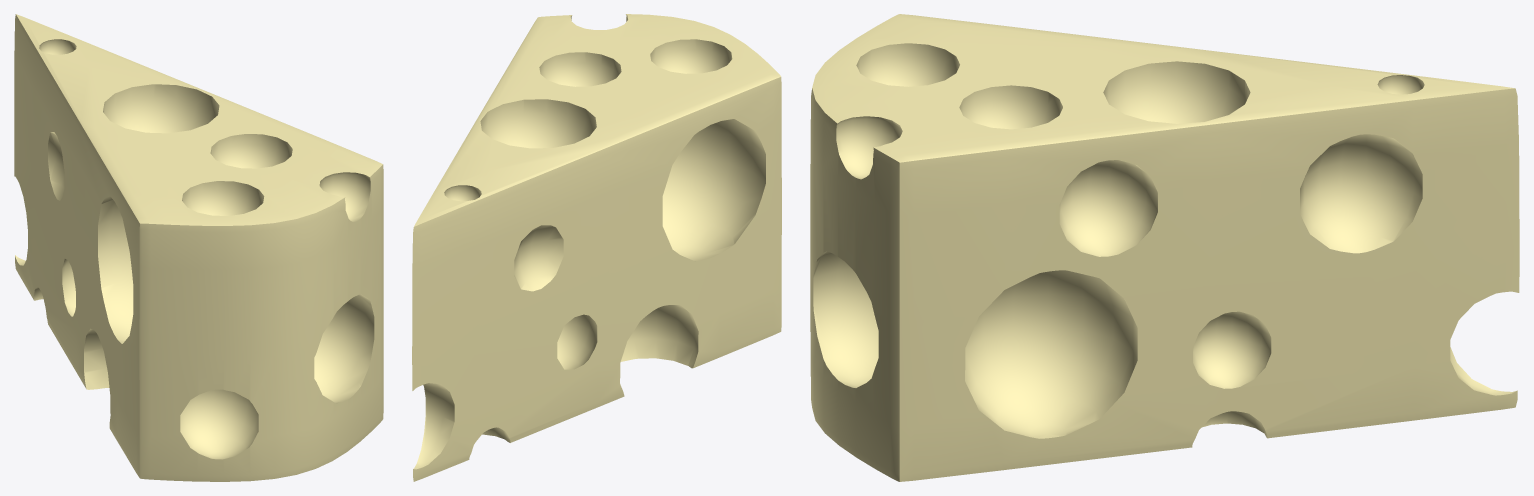
Rendered from Cheese Block.fbx.
3 renders of one model, left to right at view 1: azimuth 30°, elevation 25°; view 2: azimuth 150°, elevation 25°; view 3: azimuth 270°, elevation 25°, orthographic. The views are drawn at different scales.
Parts seen in each view (by area): view 1: Cheese; view 2: Cheese; view 3: Cheese.
Boxes of the visible parts, <box> form: Cheese: <box>14,14,383,481</box>; Cheese: <box>412,14,781,481</box>; Cheese: <box>810,14,1519,481</box>.
Size of the model in its own units: 19.79 by 20 by 39.71.
